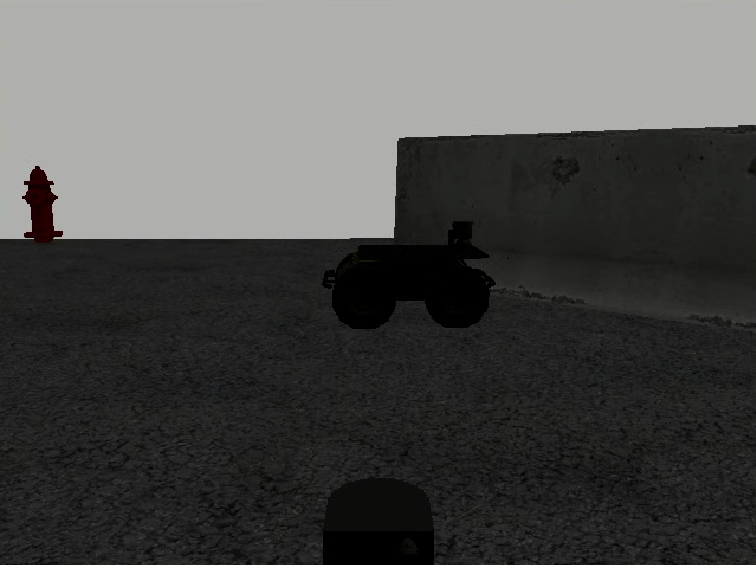husky: (321, 221, 497, 329)
